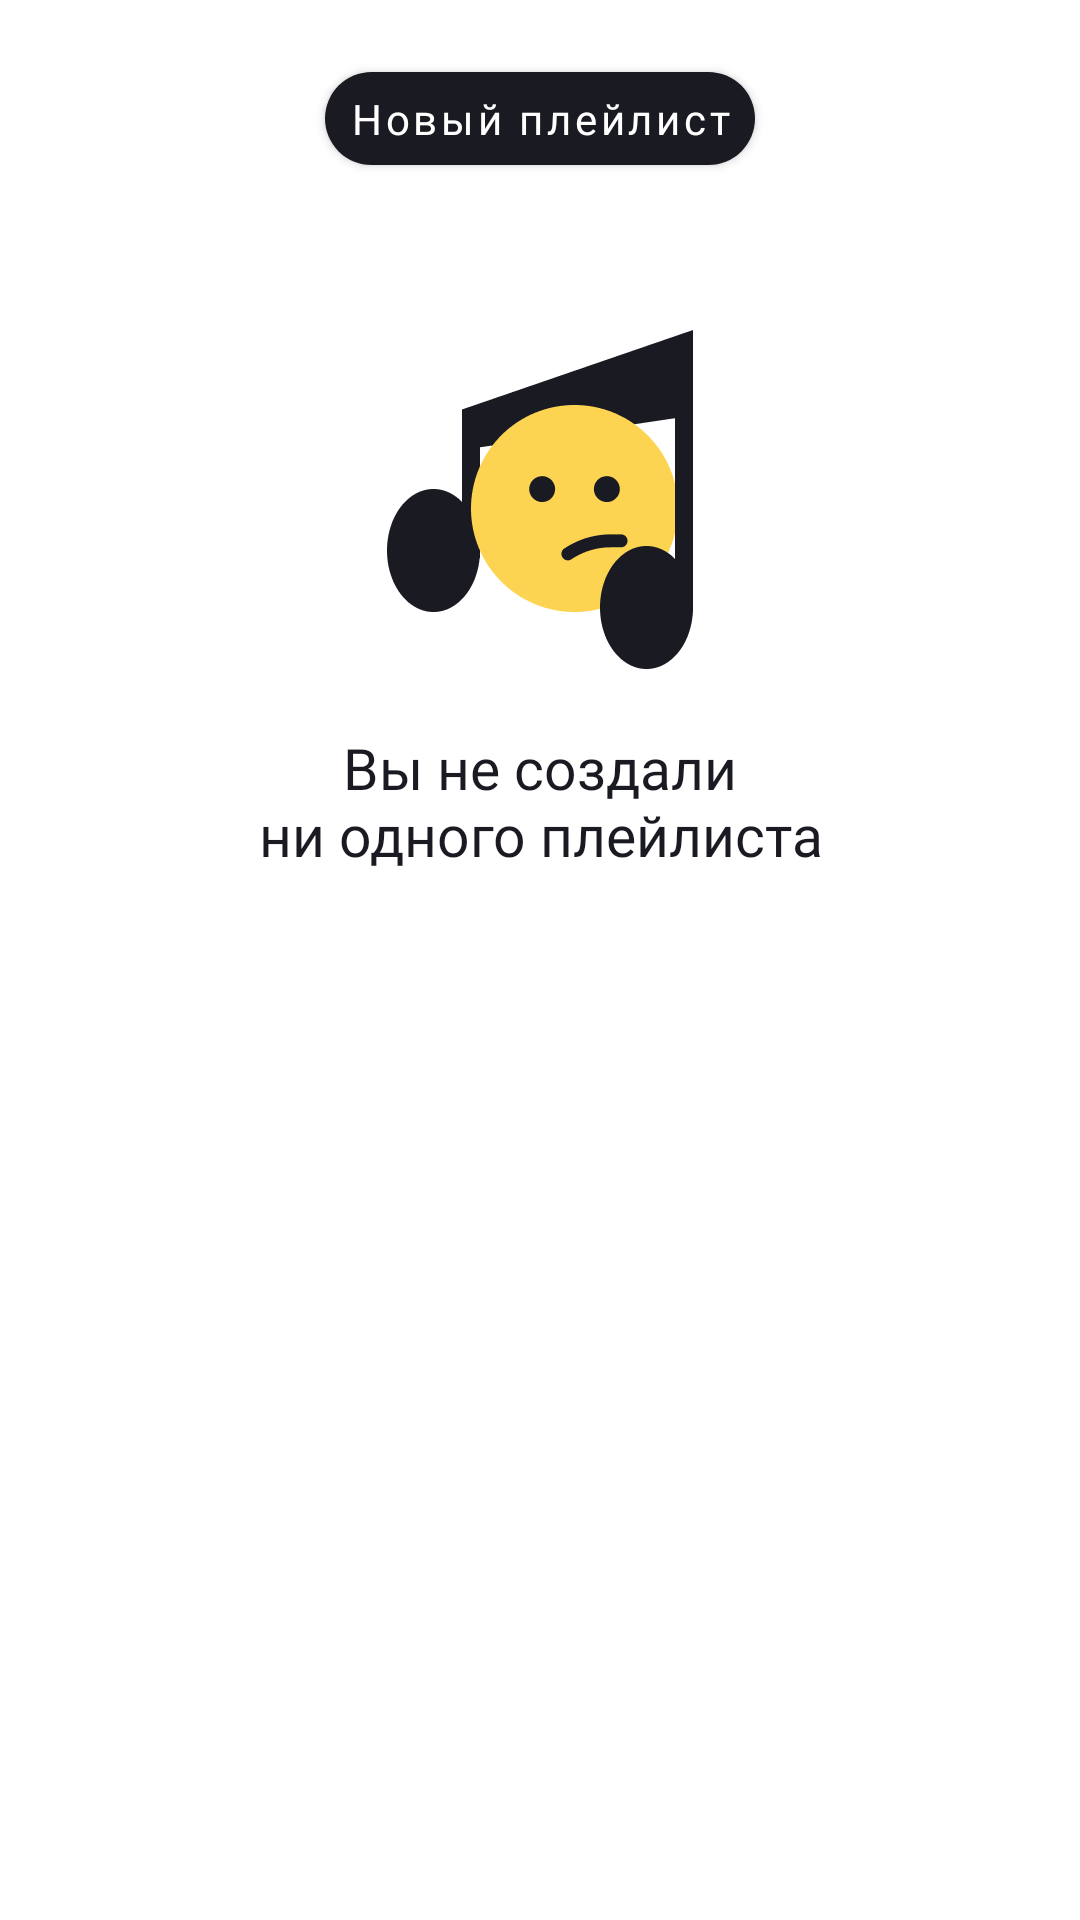

Icon bounding boxes for this 1080 x 1920 phone screenshot, format (x1, y1, x2, y2):
il nothing found: (387, 330, 693, 669)
